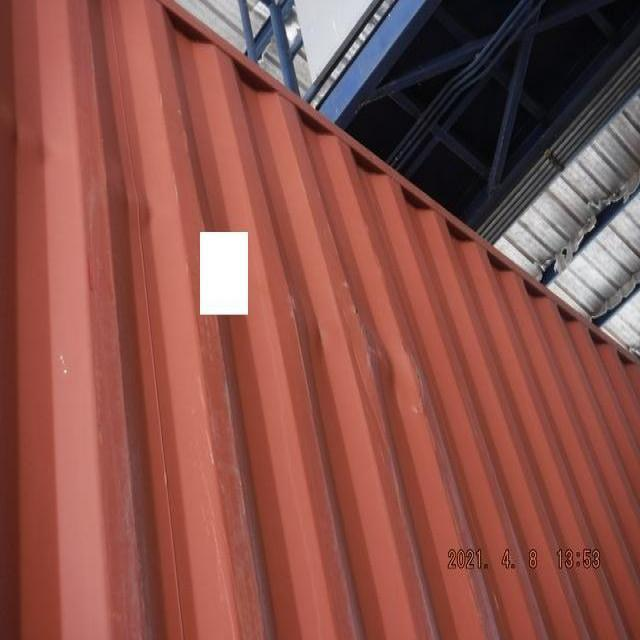Minor-Dent: (263, 281, 450, 428)
